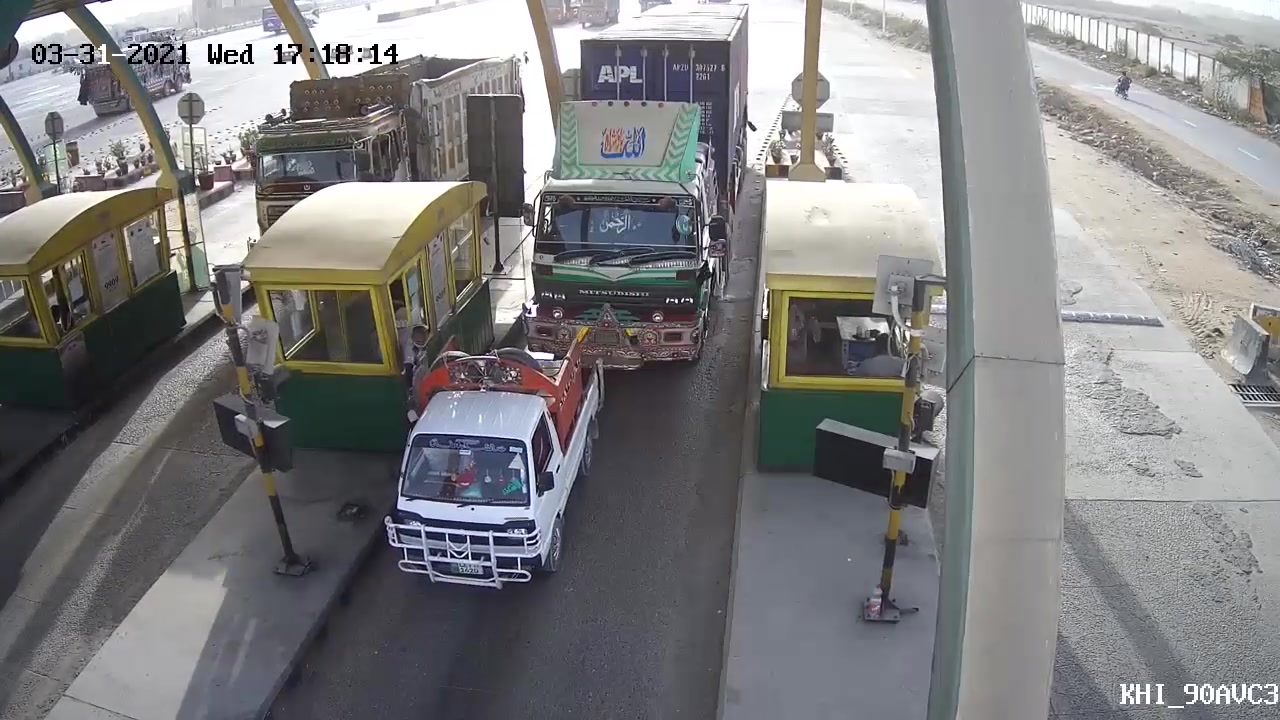F1: (381, 344, 620, 616)
F6: (521, 3, 761, 380)
